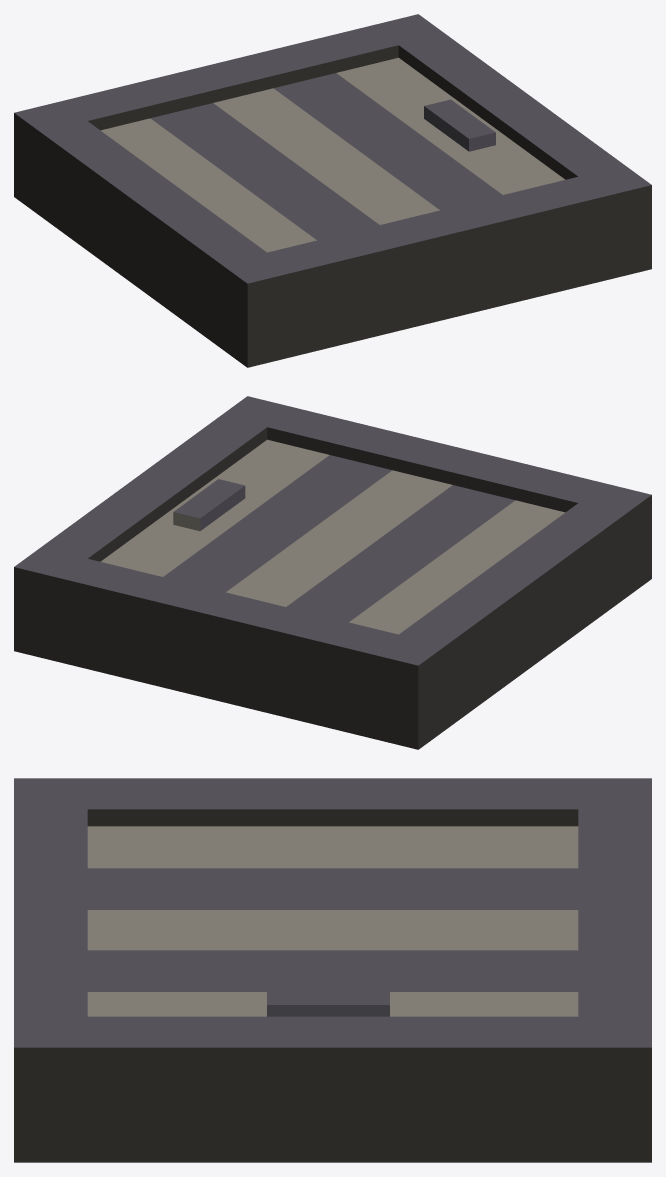
File: TB_D_Bd_Bottom_DoorSet_C.FBX
3 views of the same model, one above another, from view 1: azimuth 30°, elevation 25°; view 2: azimuth 150°, elevation 25°; view 3: azimuth 270°, elevation 25° (orthographic). The views are drawn at different scales.
Parts seen in each view (by area): view 1: TB_D_Bd_Bottom_DoorSet_C, TB_D_Bd_Bottom_Door_C; view 2: TB_D_Bd_Bottom_DoorSet_C, TB_D_Bd_Bottom_Door_C; view 3: TB_D_Bd_Bottom_DoorSet_C, TB_D_Bd_Bottom_Door_C.
Boxes of the visible parts, x1,y1,x2,y2 form: TB_D_Bd_Bottom_DoorSet_C: (14, 14, 651, 367); TB_D_Bd_Bottom_Door_C: (100, 57, 565, 252); TB_D_Bd_Bottom_DoorSet_C: (14, 396, 651, 749); TB_D_Bd_Bottom_Door_C: (100, 439, 565, 634); TB_D_Bd_Bottom_DoorSet_C: (14, 778, 651, 1162); TB_D_Bd_Bottom_Door_C: (87, 826, 578, 1016).
Size of the model in its own units: 1.3 by 0.2596 by 1.3.
